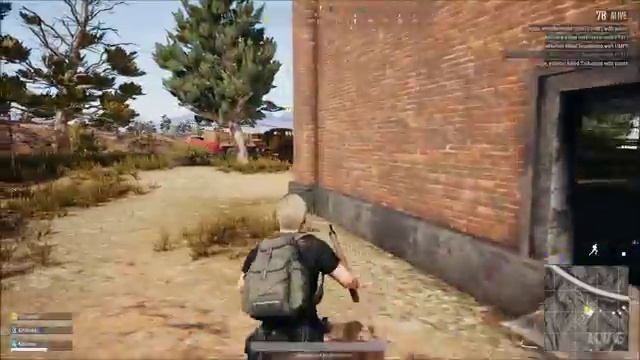Player: (221, 185, 377, 333)
